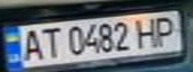0: (63, 22, 84, 56)
2: (112, 18, 136, 52)
4: (81, 20, 100, 55)
8: (97, 20, 118, 54)
A: (18, 26, 45, 62)
H: (133, 16, 163, 50)
P: (151, 14, 181, 47)
T: (36, 25, 63, 60)
